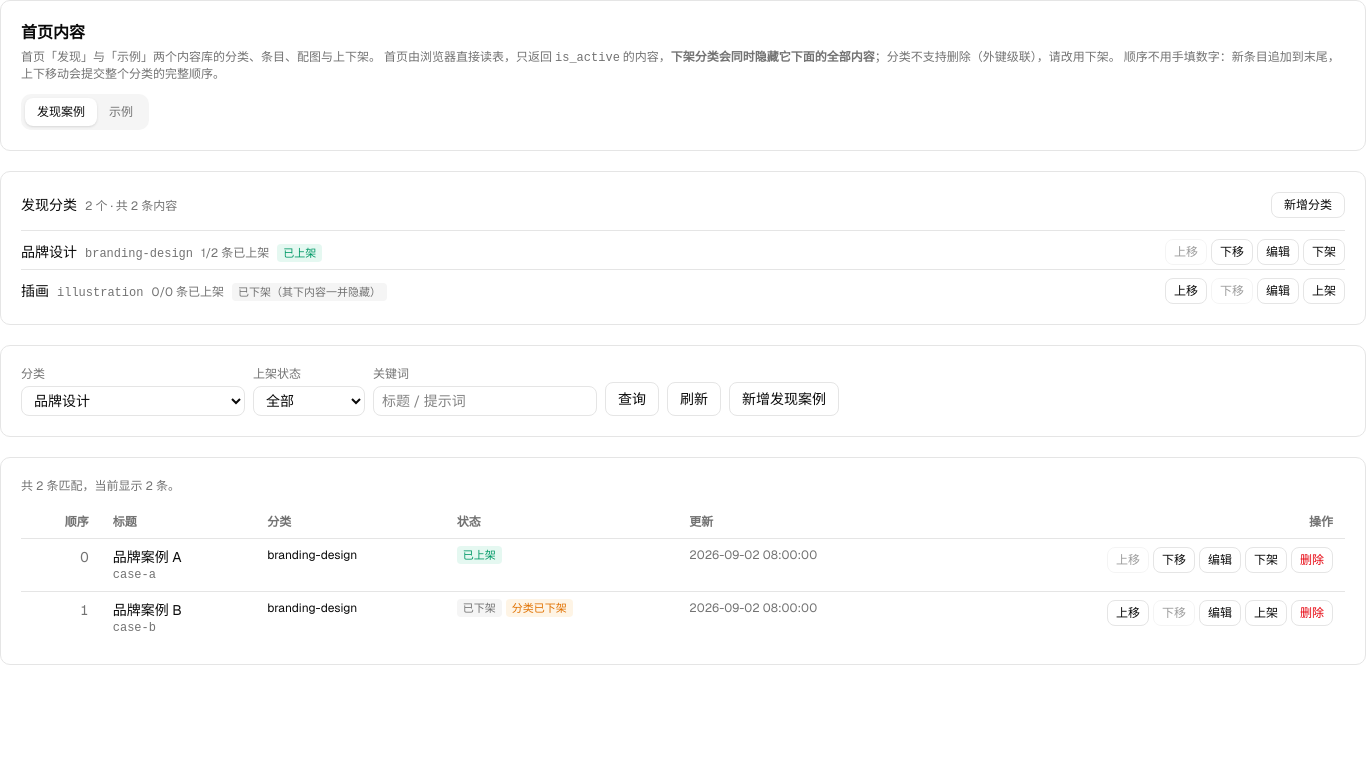
Test: admin home content section › switches to the examples library and shows its images and mentions in the editor
Expected: the table with test id "admin-home-table" is shown, [21,506,1345,644]
Step 1. Click the button "示例" → [121, 112], box [97,98,145,126]
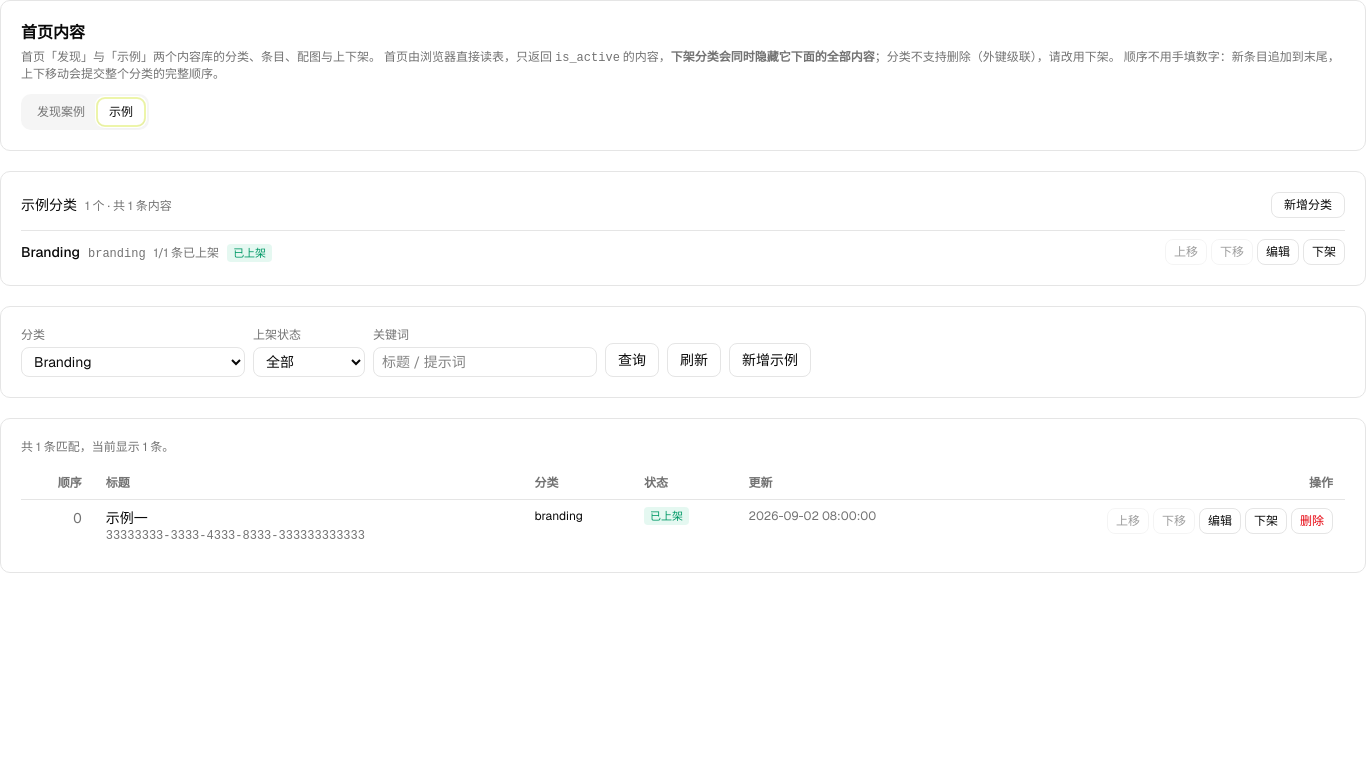
Now the text "示例一" is shown, box [106,509,148,527]
Step 2. Click the button "编辑" in the row of "示例一" → [1220, 521], box [1199,508,1241,534]
(page scrolled)
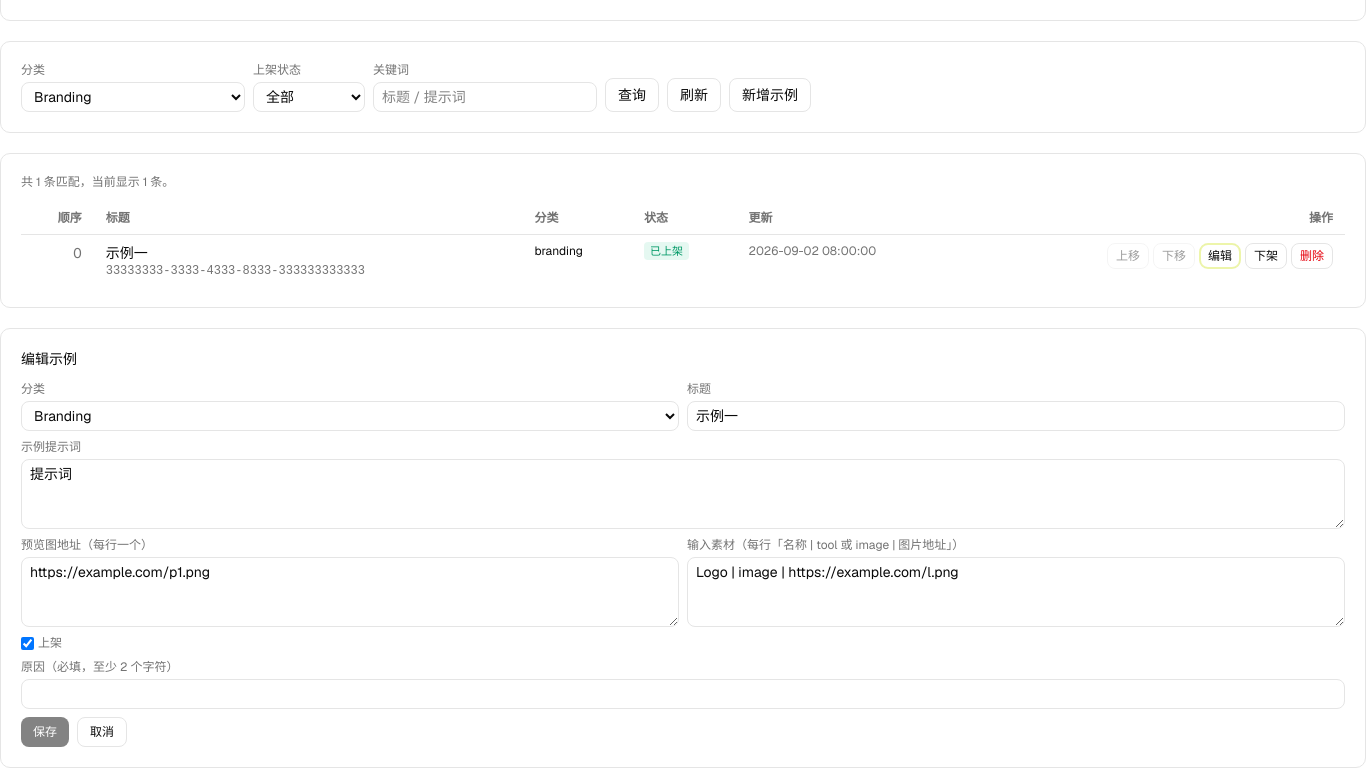
Now the text box named "表单预览图" holds "https://example.com/p1.png", box [21,557,679,627]
Now the text box named "表单输入素材" holds "Logo | image | https://example.com/l.png", box [687,557,1345,627]
